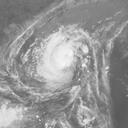cyclone: (31, 26, 88, 87)
